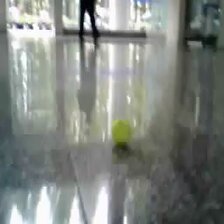tennis: (111, 119, 131, 145)
